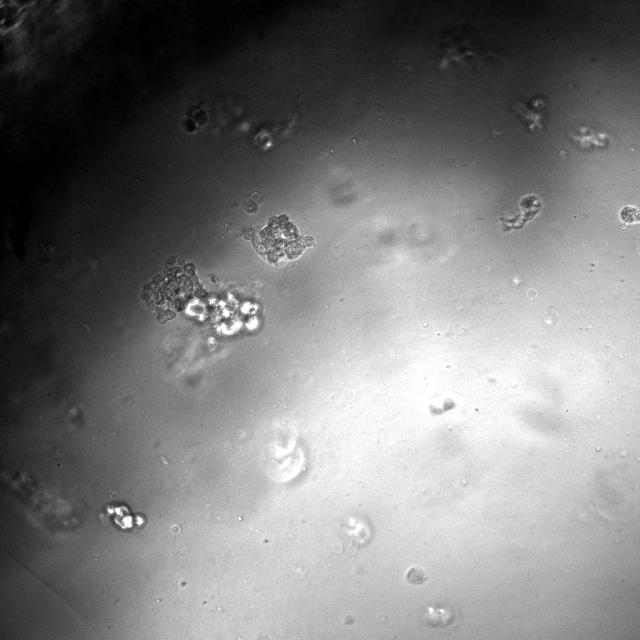organoid: (185, 287, 262, 349), (141, 256, 208, 323), (242, 214, 314, 266), (100, 502, 146, 532), (503, 194, 541, 229), (181, 105, 208, 134), (243, 191, 263, 214)
